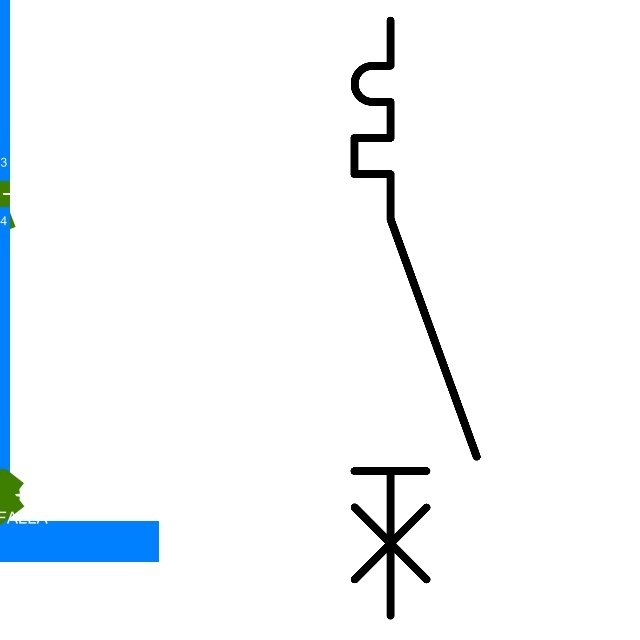interruptor_termomagnetico: (339, 5, 492, 631)
